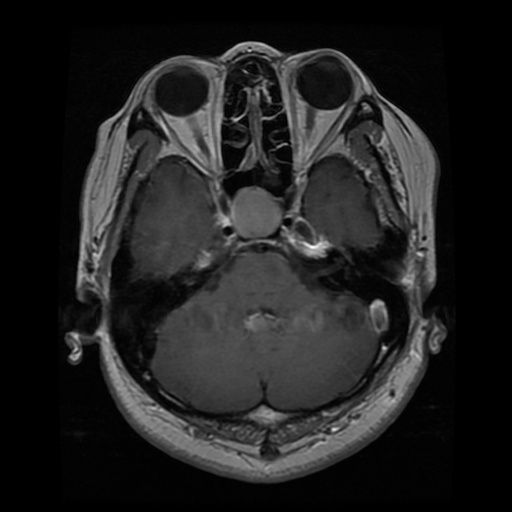pituitary: (233, 187, 282, 236)
